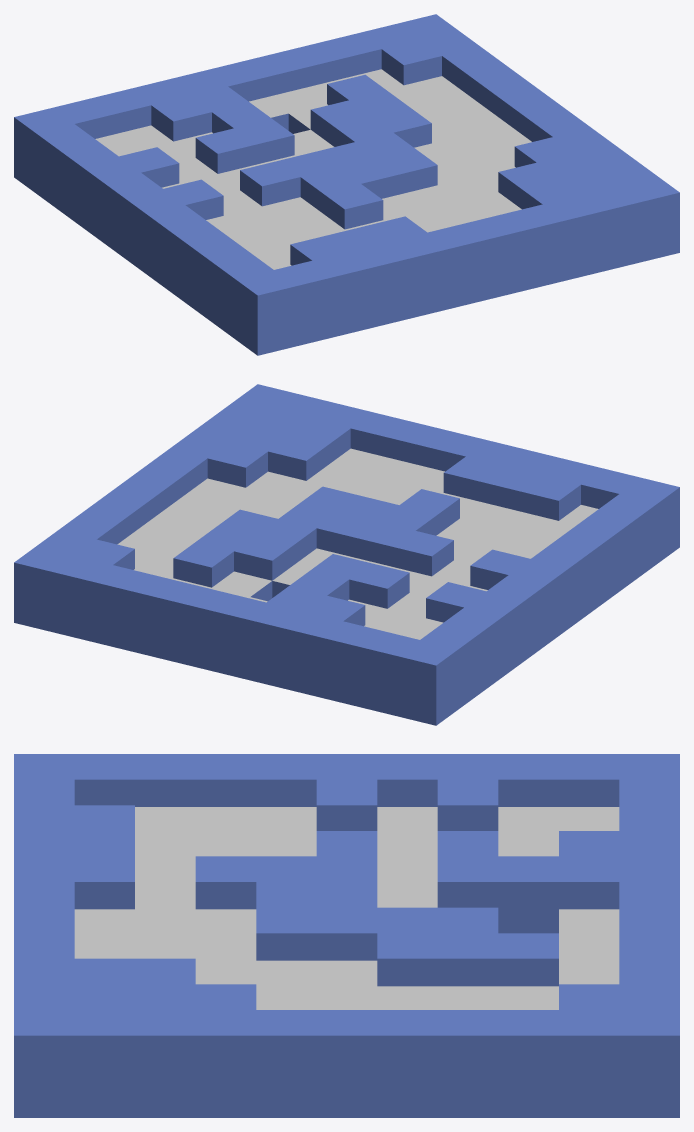
The model's file is 034_platform.fbx.
3 views of the same model, one above another, from view 1: azimuth 30°, elevation 25°; view 2: azimuth 150°, elevation 25°; view 3: azimuth 270°, elevation 25° (orthographic). The views are drawn at different scales.
Visible parts, largest first — view 1: Cube; view 2: Cube; view 3: Cube.
Part boxes in pixels (x1,y1,x2,y2): Cube: [14, 14, 679, 355]; Cube: [14, 384, 679, 725]; Cube: [14, 754, 679, 1117].
Size of the model in its own units: 1100 by 150 by 1100.
